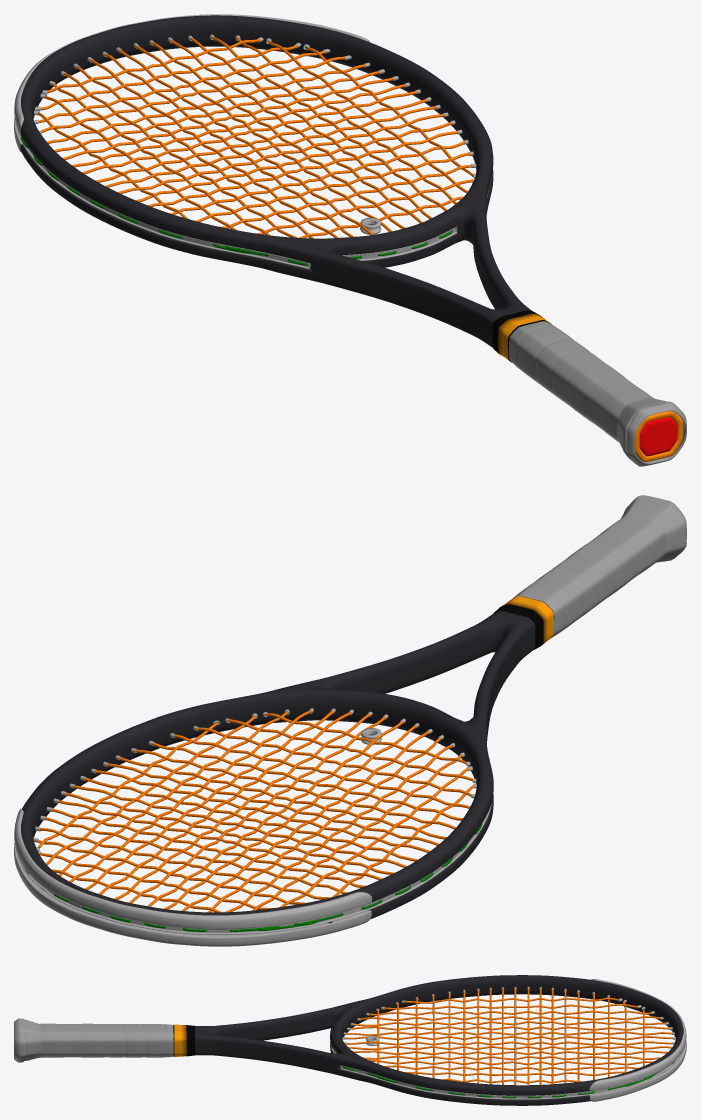
The model's file is Dhacor_K97S_v4.fbx.
The picture shows the model from 3 angles, top to bottom: view 1: azimuth 30°, elevation 25°; view 2: azimuth 150°, elevation 25°; view 3: azimuth 270°, elevation 25°; orthographic projection. The views are drawn at different scales.
Parts seen in each view (by area): view 1: Frame, Strings, Grip, Beam, Bumper, Buttcap, Tape, Frame_InteriorPipes; view 2: Strings, Frame, Bumper, Grip, Beam, Tape, Frame_InteriorPipes; view 3: Frame, Strings, Grip, Bumper, Beam, Tape, Frame_InteriorPipes.
Boxes of the visible parts, x1=… form: Frame: x1=20, y1=15, x2=532, y2=347; Strings: x1=20, y1=36, x2=490, y2=265; Grip: x1=508, y1=321, x2=686, y2=466; Beam: x1=17, y1=130, x2=491, y2=269; Bumper: x1=14, y1=14, x2=369, y2=151; Buttcap: x1=639, y1=417, x2=677, y2=456; Tape: x1=492, y1=310, x2=551, y2=362; Frame_InteriorPipes: x1=34, y1=34, x2=476, y2=193; Strings: x1=23, y1=710, x2=482, y2=931; Frame: x1=21, y1=611, x2=535, y2=934; Bumper: x1=14, y1=808, x2=371, y2=946; Grip: x1=512, y1=495, x2=686, y2=637; Beam: x1=18, y1=804, x2=491, y2=934; Tape: x1=494, y1=596, x2=554, y2=649; Frame_InteriorPipes: x1=33, y1=708, x2=476, y2=864; Frame: x1=195, y1=975, x2=683, y2=1105; Strings: x1=330, y1=988, x2=674, y2=1098; Grip: x1=14, y1=1018, x2=173, y2=1062; Bumper: x1=589, y1=979, x2=686, y2=1101; Beam: x1=330, y1=1042, x2=681, y2=1099; Tape: x1=173, y1=1024, x2=195, y2=1057; Frame_InteriorPipes: x1=342, y1=986, x2=675, y2=1047.
Size of the model in its own units: 475 by 68.78 by 1175.
